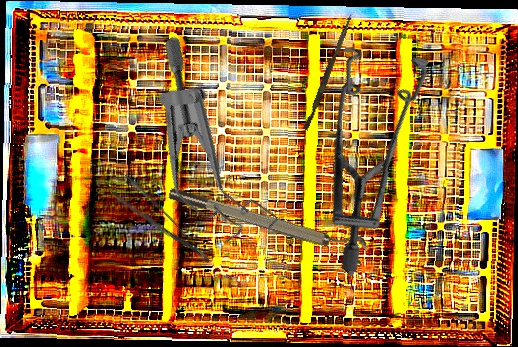Dressing Forceps: (108, 172, 212, 278)
Fixation Ring: (166, 175, 371, 266)
Pusher: (303, 12, 353, 132)
Speculum: (233, 13, 495, 277), (91, 32, 334, 266)
